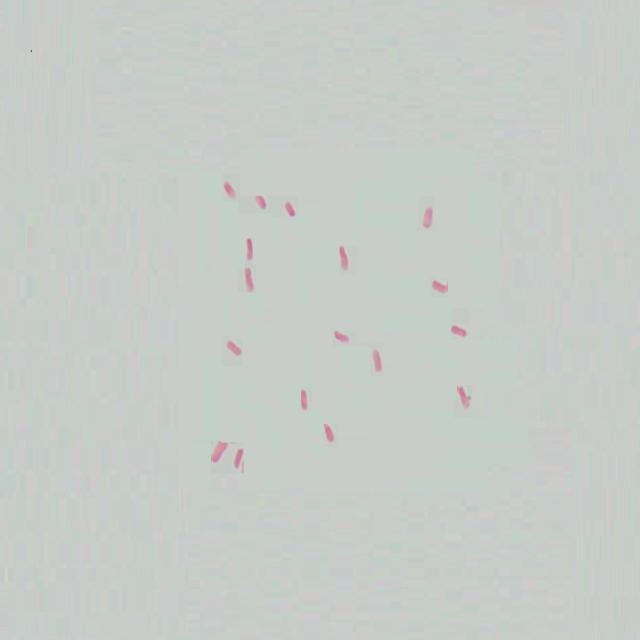E-coli: (223, 336, 246, 365), (447, 316, 471, 343), (455, 382, 474, 414), (369, 345, 385, 375), (430, 276, 452, 296), (232, 443, 247, 472), (297, 384, 311, 414), (330, 326, 352, 345), (336, 243, 350, 271), (210, 441, 226, 464), (323, 422, 337, 448), (243, 267, 257, 293), (422, 207, 436, 230), (221, 180, 235, 203), (284, 198, 297, 217), (245, 237, 256, 258), (256, 195, 271, 210)
